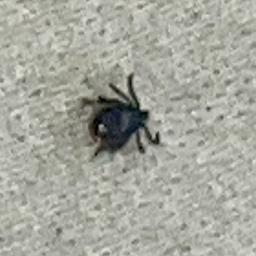Ixodes scapularis: (84, 73, 160, 157)
